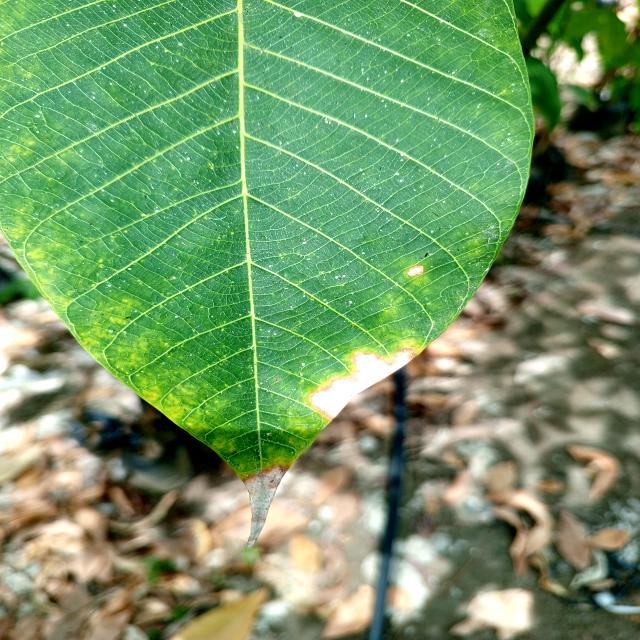Colletotrichum: (407, 265, 424, 276), (276, 379, 279, 381)
Leaf-Blight: (309, 348, 417, 422)
